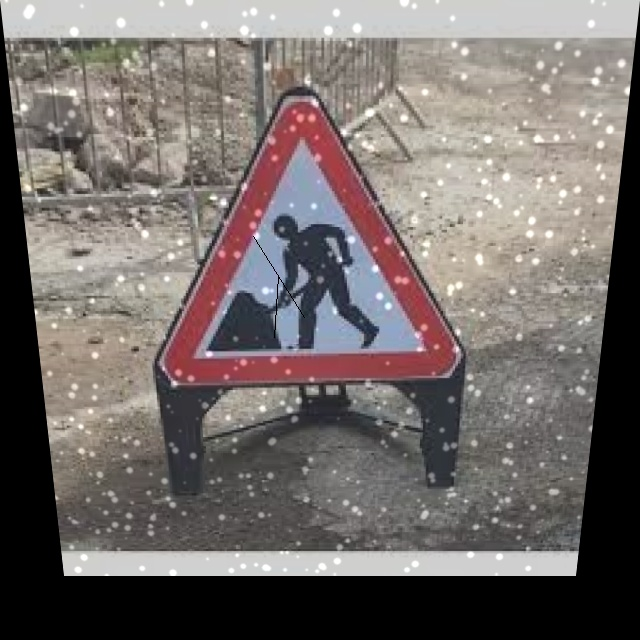Men_at_Work: (134, 84, 480, 380)
